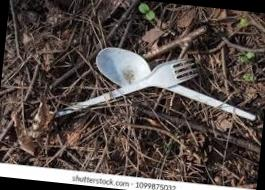Plastik: (90, 45, 261, 122)
